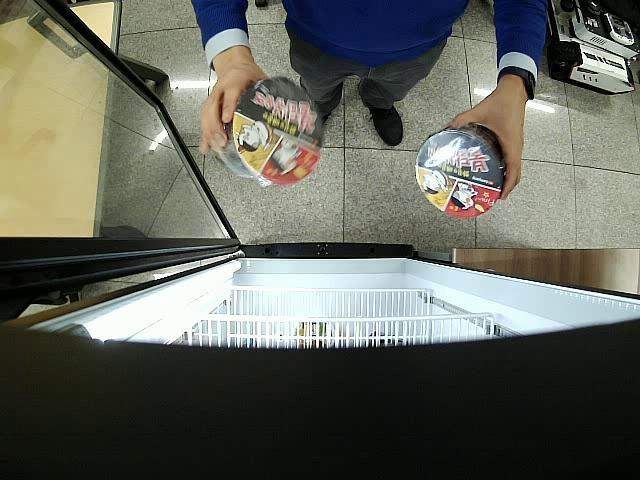07_buldak_L: (217, 77, 323, 185), (416, 124, 506, 218)
